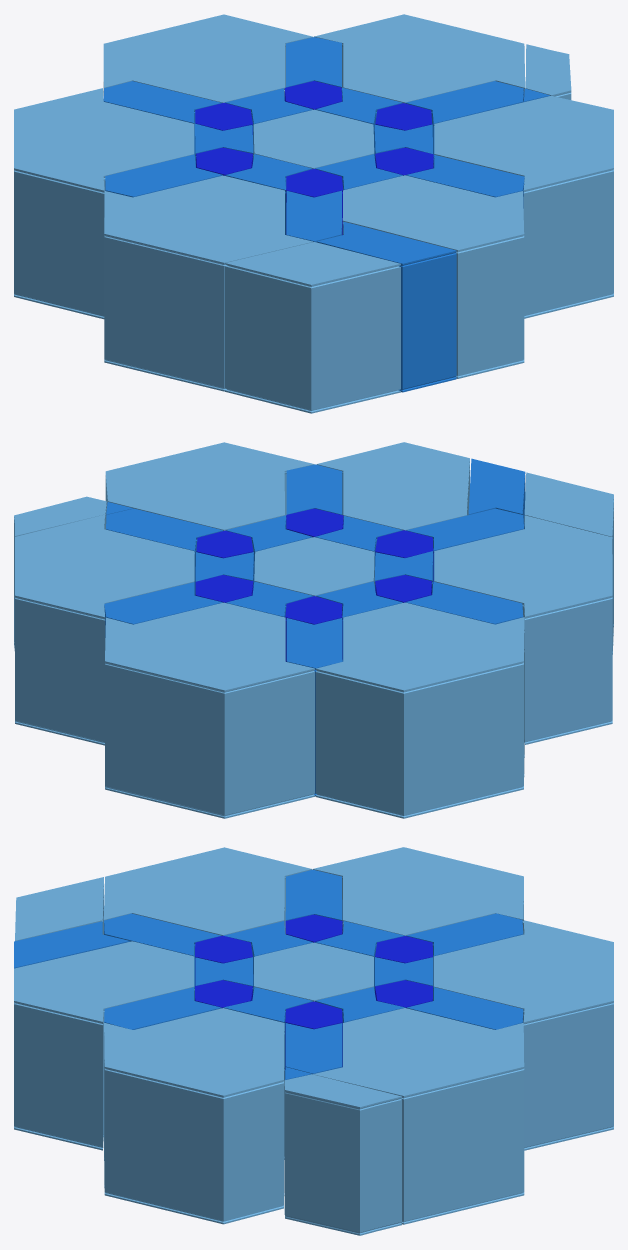
Rendered from MDL_Groundfloor_Ground_Blocks_01.fbx.
The picture shows the model from 3 angles, top to bottom: view 1: azimuth 30°, elevation 25°; view 2: azimuth 150°, elevation 25°; view 3: azimuth 270°, elevation 25°; orthographic projection.
Visible parts, largest first — view 1: MDL_G_06, MDL_G_06_Ex, MDL_G_01, MDL_G_04, MDL_G_05, MDL_G_03, MDL_G_02, MDL_G_05_06_Ex, MDL_G_07, MDL_G_03_04, MDL_G_01_06, MDL_G_01_02 (+16 smaller); view 2: MDL_G_01, MDL_G_02, MDL_G_03, MDL_G_06, MDL_G_04, MDL_G_05, MDL_G_07, MDL_G_06_Ex, MDL_G_03_04, MDL_G_05_06_Ex, MDL_G_06_05, MDL_G_01_02 (+16 smaller); view 3: MDL_G_04, MDL_G_03, MDL_G_02, MDL_G_05, MDL_G_03_Ex, MDL_G_01, MDL_G_06, MDL_G_07, MDL_G_06_Ex, MDL_G_05_06_Ex, MDL_G_06_05, MDL_G_01_02 (+16 smaller).
Boxes of the visible parts, x1,y1,x2,y2 form: MDL_G_06: [104, 175, 313, 391]; MDL_G_06_Ex: [225, 242, 400, 413]; MDL_G_01: [14, 88, 194, 319]; MDL_G_04: [434, 95, 613, 318]; MDL_G_05: [342, 175, 524, 378]; MDL_G_03: [314, 14, 525, 103]; MDL_G_02: [103, 14, 312, 102]; MDL_G_05_06_Ex: [317, 221, 456, 392]; MDL_G_07: [253, 109, 374, 168]; MDL_G_03_04: [405, 81, 523, 167]; MDL_G_01_06: [105, 154, 222, 197]; MDL_G_01_02: [103, 81, 221, 156]; MDL_G_01: [315, 602, 524, 818]; MDL_G_02: [105, 602, 314, 818]; MDL_G_03: [15, 514, 194, 745]; MDL_G_06: [434, 515, 612, 744]; MDL_G_04: [105, 442, 314, 530]; MDL_G_05: [316, 442, 469, 530]; MDL_G_07: [254, 537, 374, 596]; MDL_G_06_Ex: [524, 472, 613, 654]; MDL_G_03_04: [106, 508, 223, 595]; MDL_G_05_06_Ex: [468, 458, 525, 529]; MDL_G_06_05: [406, 508, 523, 581]; MDL_G_01_02: [286, 618, 342, 796]; MDL_G_04: [104, 1008, 284, 1224]; MDL_G_03: [313, 1008, 524, 1224]; MDL_G_02: [433, 920, 613, 1150]; MDL_G_05: [14, 941, 194, 1150]; MDL_G_03_Ex: [284, 1074, 401, 1235]; MDL_G_01: [312, 847, 523, 935]; MDL_G_06: [103, 847, 311, 935]; MDL_G_07: [254, 942, 373, 1001]; MDL_G_06_Ex: [15, 877, 103, 941]; MDL_G_05_06_Ex: [14, 921, 129, 968]; MDL_G_06_05: [104, 913, 221, 1000]; MDL_G_01_02: [406, 913, 523, 1000].
Bounding box in the file's own units: 3360 × 775 × 3275.
